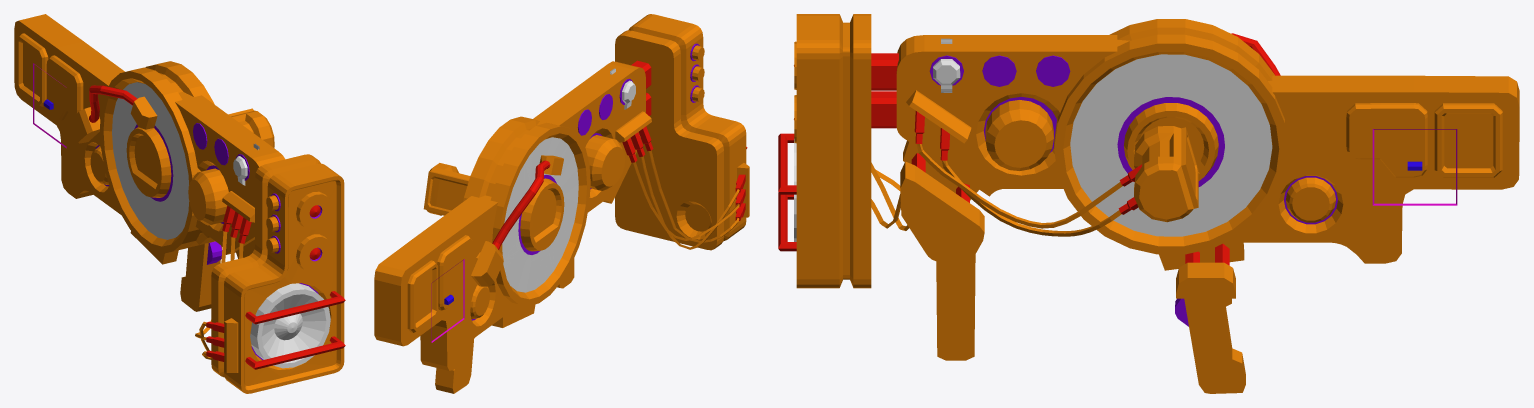
Rendered from dubstepgun v0.5.dae.
3 views of the same model, side by side, from view 1: azimuth 30°, elevation 25°; view 2: azimuth 150°, elevation 25°; view 3: azimuth 270°, elevation 25° (orthographic). The views are drawn at different scales.
Parts seen in each view (by area): view 1: DubStepGun, DubStepGun.004, DubStepGun.007, DubStepGun.001, DubStepGun.002; view 2: DubStepGun, DubStepGun.004, DubStepGun.002; view 3: DubStepGun, DubStepGun.004, DubStepGun.002, DubStepGun.001.
Part boxes in pixels (x1=…): DubStepGun: x1=14, y1=14, x2=345, y2=393; DubStepGun.004: x1=112, y1=82, x2=189, y2=239; DubStepGun.007: x1=250, y1=283, x2=330, y2=368; DubStepGun.001: x1=233, y1=143, x2=259, y2=185; DubStepGun.002: x1=33, y1=63, x2=66, y2=148; DubStepGun: x1=374, y1=14, x2=749, y2=393; DubStepGun.004: x1=502, y1=137, x2=578, y2=292; DubStepGun.002: x1=431, y1=259, x2=464, y2=342; DubStepGun: x1=778, y1=14, x2=1519, y2=393; DubStepGun.004: x1=1070, y1=54, x2=1272, y2=236; DubStepGun.002: x1=1372, y1=129, x2=1457, y2=205; DubStepGun.001: x1=933, y1=38, x2=960, y2=92.
Size of the model in its own units: 12.74 by 35.16 by 17.14.
